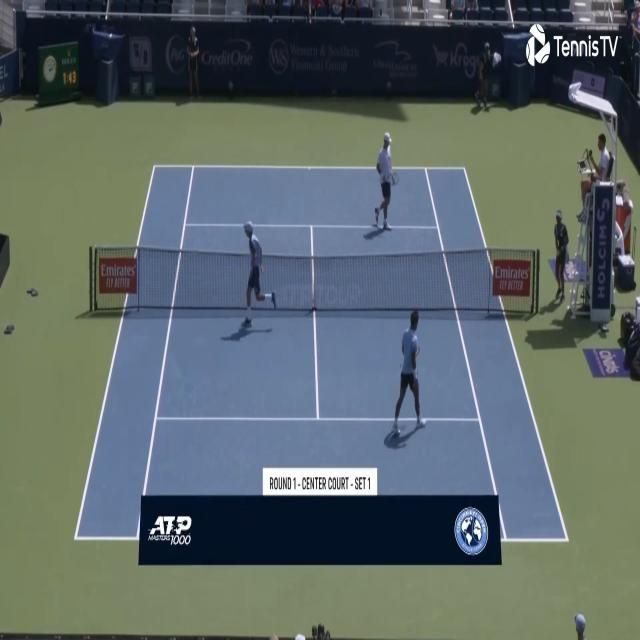tennis-player: (390, 306, 427, 438), (372, 129, 400, 231)
